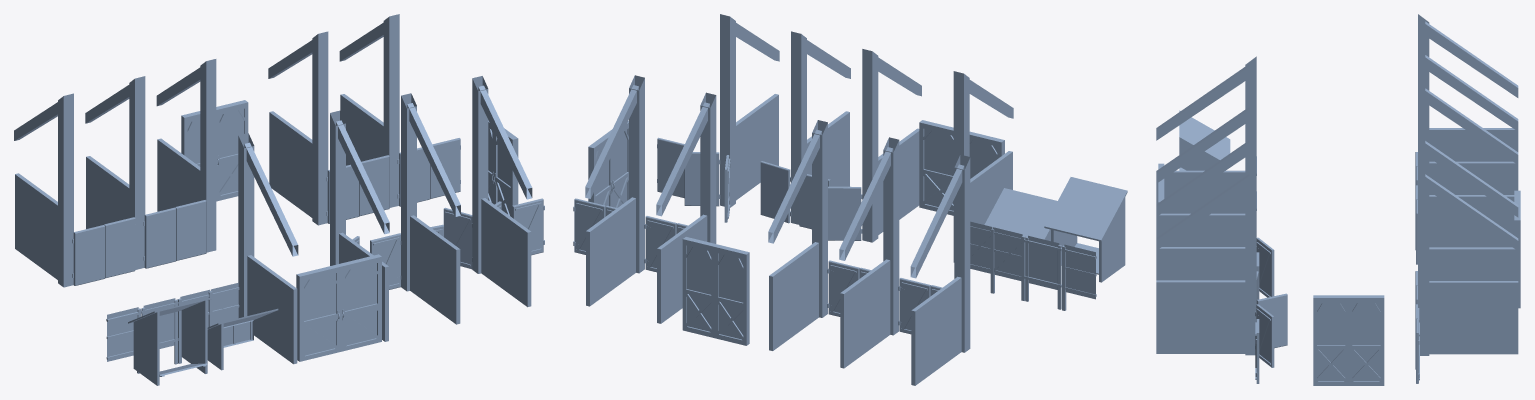
The model's file is SM_barn.fbx.
3 views of the same model, side by side, from view 1: azimuth 30°, elevation 25°; view 2: azimuth 150°, elevation 25°; view 3: azimuth 270°, elevation 25° (orthographic). The views are drawn at different scales.
Parts seen in each view (by area): view 1: Animal_stables31, Animal_stables30, Animal_stables28, Animal_stables26, Animal_stables25, Animal_stables23, pCube462 (×4), Animal_stables24, Animal_stables27, pCube463 (×4), Animal_stables29, polySurface45 (+13 smaller); view 2: Animal_stables25, Animal_stables24, Animal_stables23, Animal_stables27, Animal_stables31, polySurface699, Animal_stables26, Animal_stables29, Animal_stables30, pCube462 (×4), Animal_stables28, Fireplace:Fireplace:Fireplace:Fireplace:Fireplace:Fireplace: (×2) (+14 smaller); view 3: Animal_stables31, Animal_stables27, polySurface697, Animal_stables23, Animal_stables30, Animal_stables26, Animal_stables29, Animal_stables28, Animal_stables25, Animal_stables24, Fireplace:Fireplace:Fireplace:Fireplace:pCube266, pCube458 (+5 smaller).
Boxes of the visible parts, left/top/right/bottom form: Animal_stables31: left=472, top=76, right=532, bottom=307; Animal_stables30: left=401, top=93, right=460, bottom=324; Animal_stables28: left=238, top=133, right=298, bottom=364; Animal_stables26: left=268, top=31, right=328, bottom=225; Animal_stables25: left=14, top=93, right=73, bottom=287; Animal_stables23: left=156, top=59, right=216, bottom=252; pCube462 (×4): left=104, top=138, right=460, bottom=278; Animal_stables24: left=85, top=76, right=145, bottom=269; Animal_stables27: left=339, top=14, right=399, bottom=207; pCube463 (×4): left=72, top=147, right=430, bottom=285; Animal_stables29: left=330, top=110, right=389, bottom=341; polySurface45: left=296, top=264, right=340, bottom=361; Animal_stables25: left=910, top=154, right=970, bottom=385; Animal_stables24: left=839, top=137, right=899, bottom=368; Animal_stables23: left=768, top=120, right=827, bottom=350; Animal_stables27: left=585, top=75, right=644, bottom=306; Animal_stables31: left=720, top=14, right=779, bottom=207; polySurface699: left=682, top=237, right=749, bottom=345; Animal_stables26: left=656, top=92, right=716, bottom=323; Animal_stables29: left=862, top=49, right=921, bottom=242; Animal_stables30: left=791, top=31, right=850, bottom=224; pCube462 (×4): left=573, top=198, right=930, bottom=334; Animal_stables28: left=953, top=71, right=1013, bottom=262; Fireplace:Fireplace:Fireplace:Fireplace:Fireplace:Fireplace: (×2): left=970, top=226, right=1096, bottom=310; Animal_stables31: left=1156, top=166, right=1256, bottom=355; Animal_stables27: left=1418, top=167, right=1518, bottom=355; polySurface697: left=1313, top=295, right=1384, bottom=385; Animal_stables23: left=1418, top=81, right=1518, bottom=247; Animal_stables30: left=1156, top=133, right=1256, bottom=280; Animal_stables26: left=1418, top=133, right=1518, bottom=280; Animal_stables29: left=1156, top=99, right=1256, bottom=246; Animal_stables28: left=1156, top=56, right=1256, bottom=213; Animal_stables25: left=1418, top=14, right=1518, bottom=161; Animal_stables24: left=1418, top=47, right=1518, bottom=194; Fireplace:Fireplace:Fireplace:Fireplace:pCube266: left=1179, top=110, right=1230, bottom=160; pCube458: left=1256, top=293, right=1287, bottom=348.
Size of the model in its own units: 2168 by 1000 by 1612.
